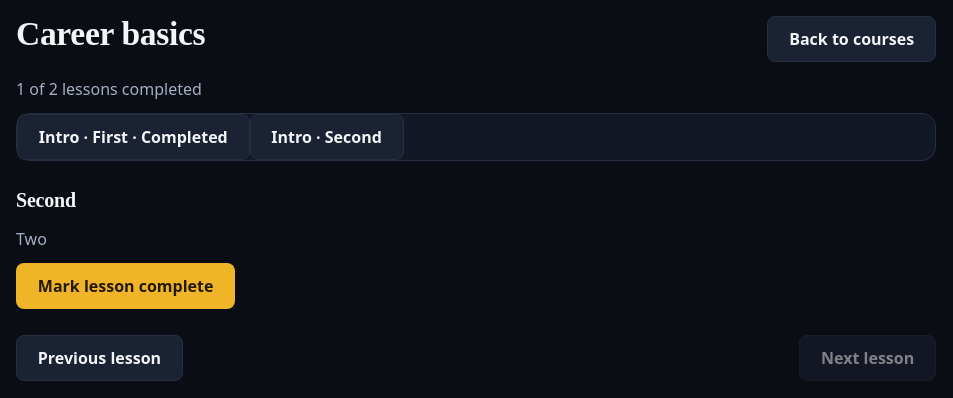
Scenario: resumes the next unfinished lesson and supports previous/next navigation
Expected: the heading "Second" is shown, [16,189,76,211]
Expected: the button "Next lesson" is disabled, [799,335,936,381]
Click the button "Previous lesson".
click(99, 358)  # box [16,335,183,381]
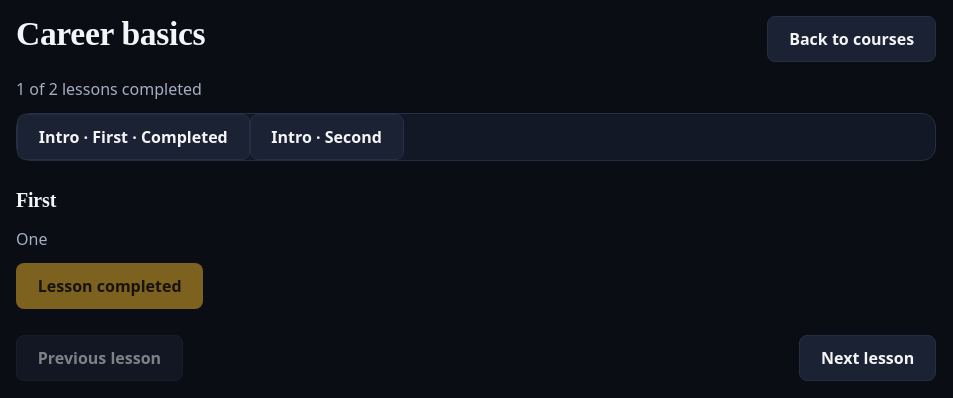
Now the heading "First" is shown, box [16,189,56,211]
Click the button "Next lesson".
click(868, 358)  # box [799,335,936,381]
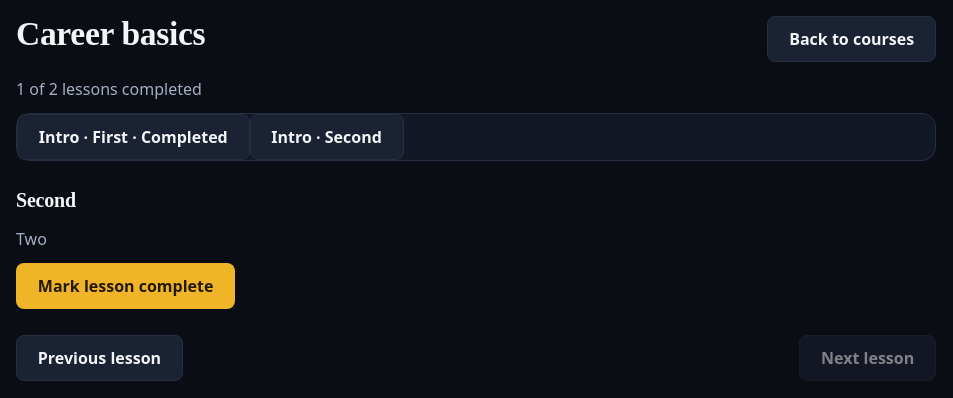
Now the heading "Second" is shown, box [16,189,76,211]
